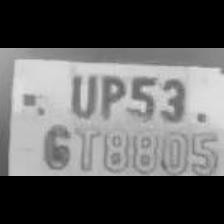0: (156, 125, 188, 172)
3: (155, 71, 187, 123)
5: (126, 72, 158, 122), (184, 124, 216, 172)
8: (98, 120, 130, 172), (128, 122, 158, 174)
G: (40, 121, 70, 173)
P: (96, 70, 127, 122)
T: (73, 121, 97, 173)
U: (65, 68, 97, 119)
